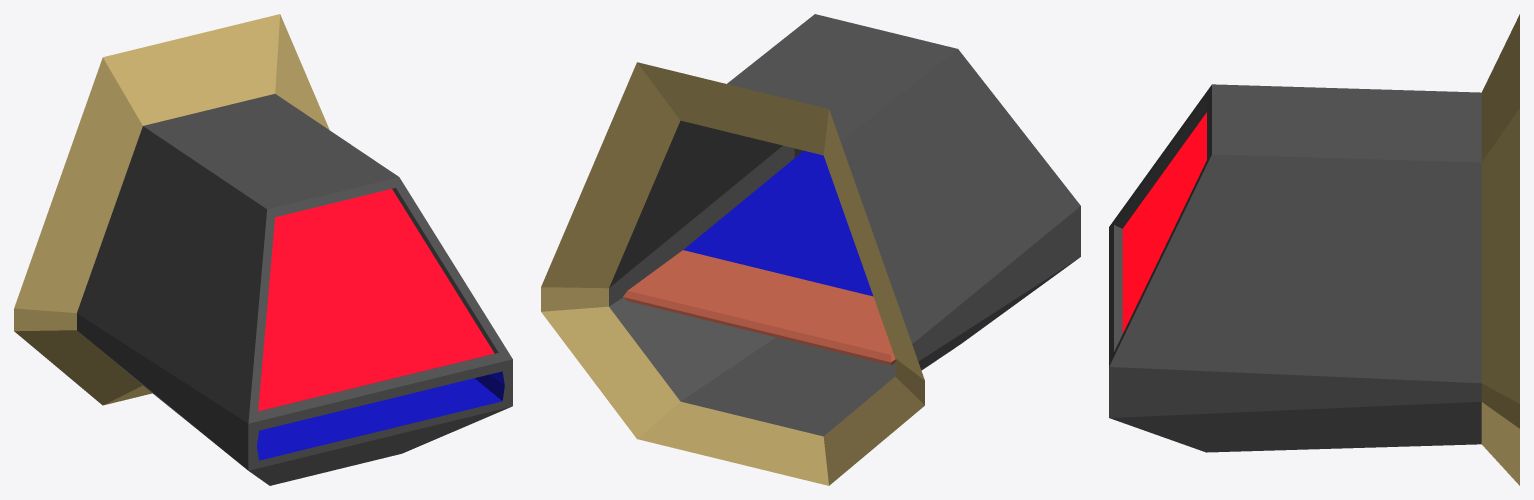
Rendered from CardSlot.fbx.
3 renders of one model, left to right at view 1: azimuth 30°, elevation 25°; view 2: azimuth 150°, elevation 25°; view 3: azimuth 270°, elevation 25°, orthographic. The views are drawn at different scales.
Visible parts, largest first — view 1: Cube; view 2: Cube; view 3: Cube.
Boxes of the visible parts, <box> form: Cube: <box>14,14,512,485</box>; Cube: <box>541,14,1080,485</box>; Cube: <box>1109,14,1519,485</box>.
Size of the model in its own units: 17.49 by 16.4 by 16.15.
